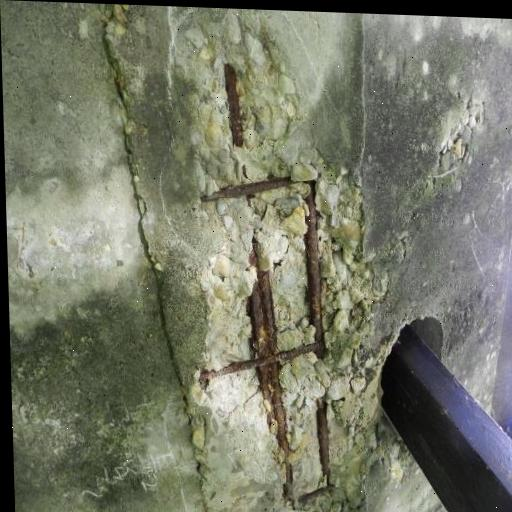exposed_rebar: (199, 342, 324, 388), (258, 358, 292, 497), (305, 180, 323, 342), (250, 267, 278, 359), (201, 177, 292, 203), (225, 63, 243, 147), (317, 397, 330, 477), (293, 484, 334, 508), (249, 244, 258, 265)
spalling: (177, 17, 383, 512)
